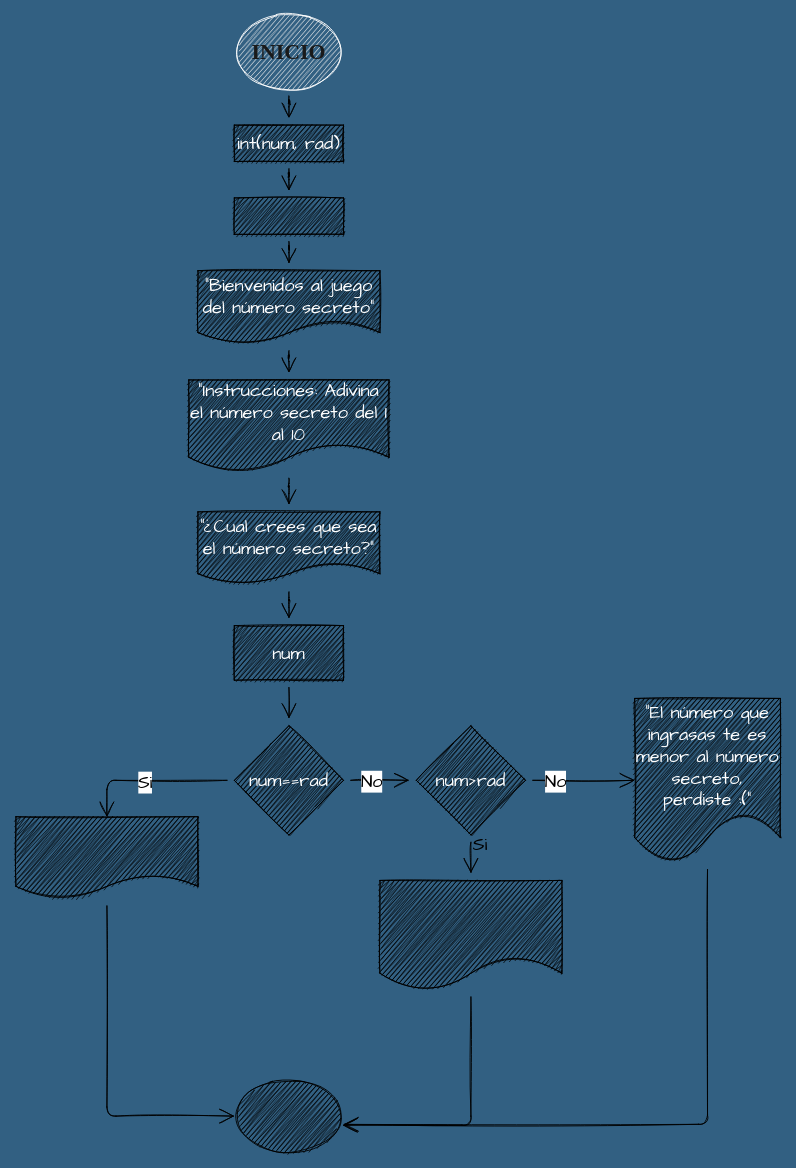
Some shapes in this 796 by 1168 pixel diagram are drawn without their labels. The centre of each missing label's shape, as x and y in pixels:
"El número que ingresaste es mayor al número secreto, perdiste :(": point 470,935
"Felicidades, haz adivinado el número secreto :)": point 106,857
FIN: point 288,1116
rad=6: point 288,215
